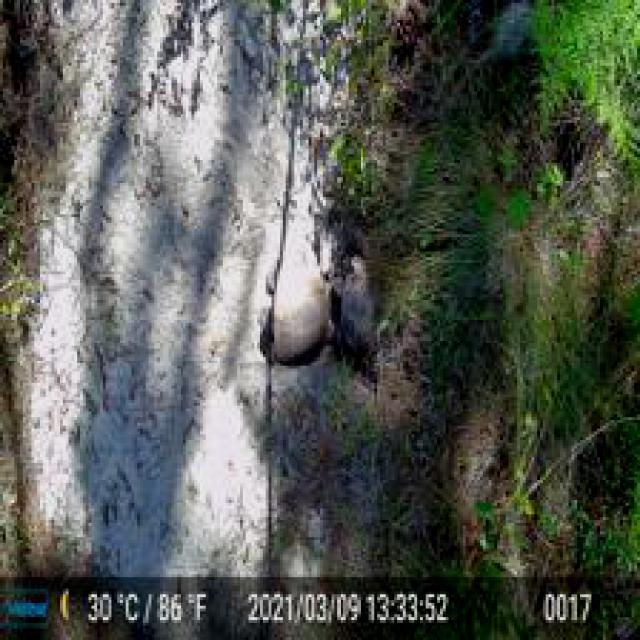tortoise: (257, 240, 329, 372), (329, 251, 381, 365)
